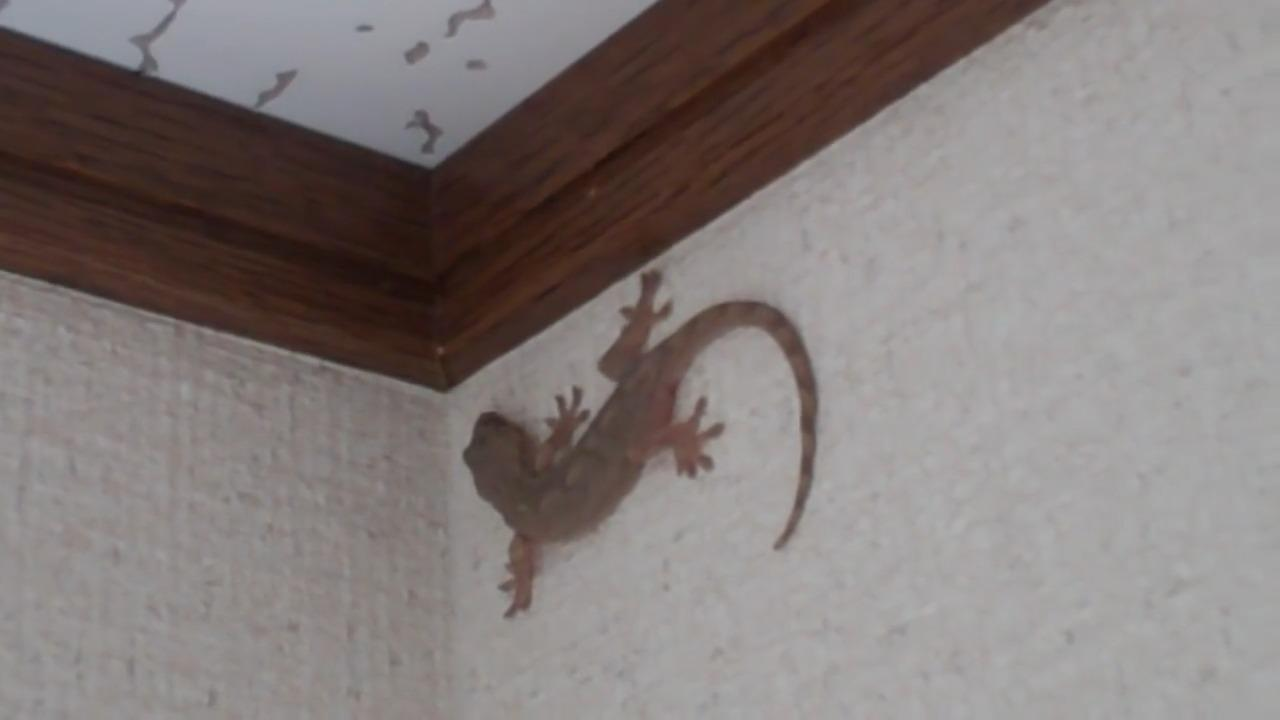lizard: (442, 262, 933, 619)
